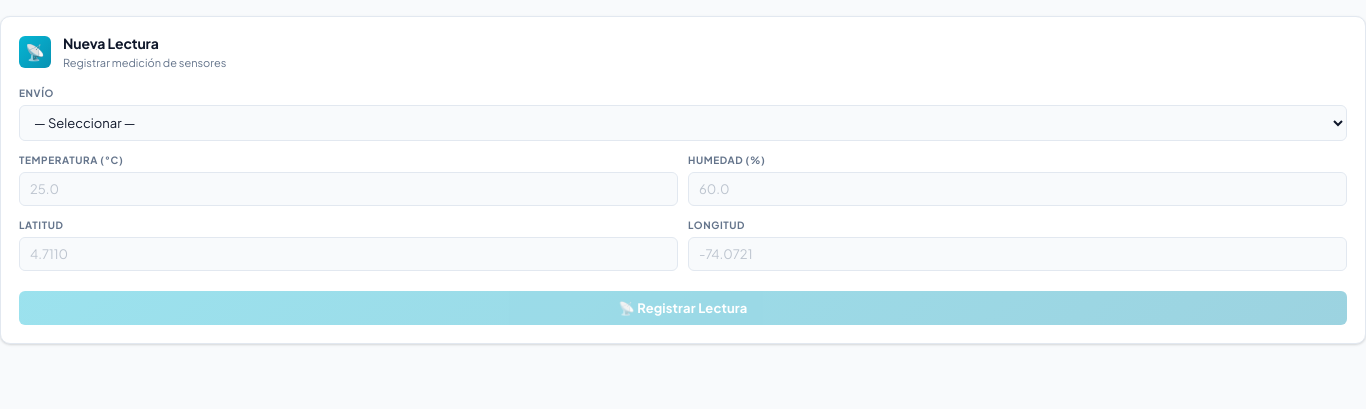
Test: SensorRegister - Registro de lectura IoT › muestra error si falla el registro
Select "s1 — En tránsito (BOGOTA)" in the dropdown labelled "Envío". click: x=683, y=122
box: [19, 104, 1347, 140]
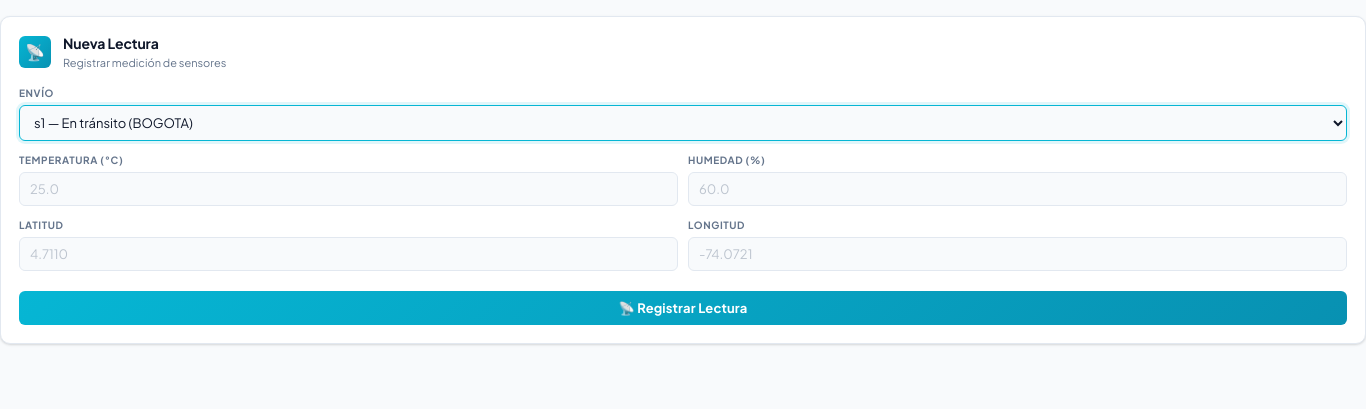
Type "30" into the number field labelled "Temperatura (°C)". click: x=348, y=188
box: [19, 172, 678, 206]
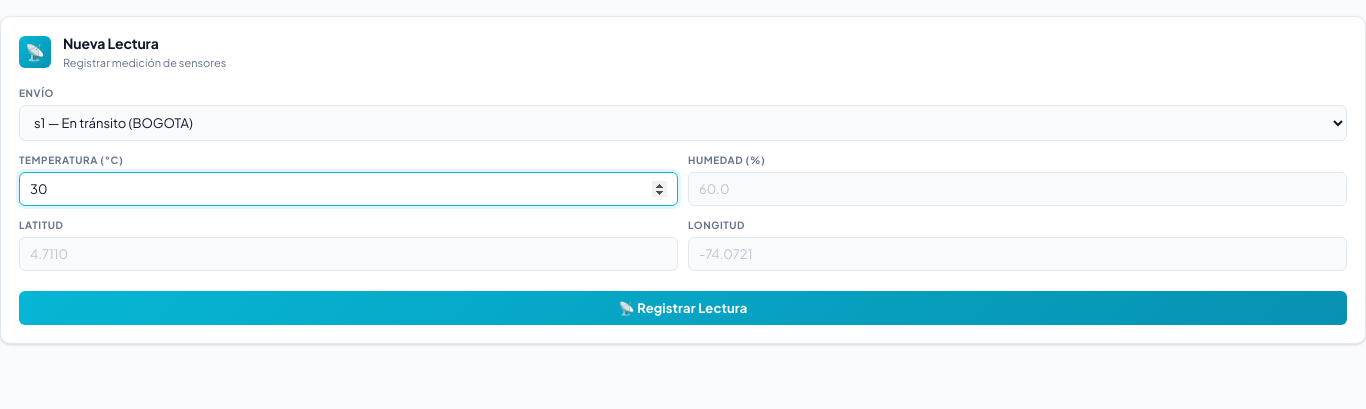
Click the button "📡 Registrar Lectura". click: x=683, y=308
box: [19, 290, 1347, 324]
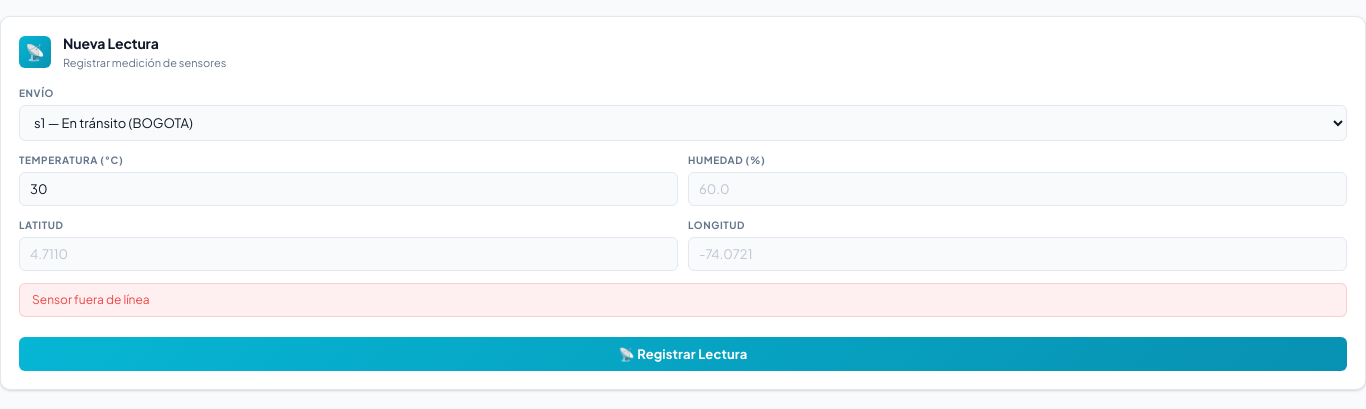
Expected: the text "Sensor fuera de línea" is shown, [19, 282, 1347, 317]
